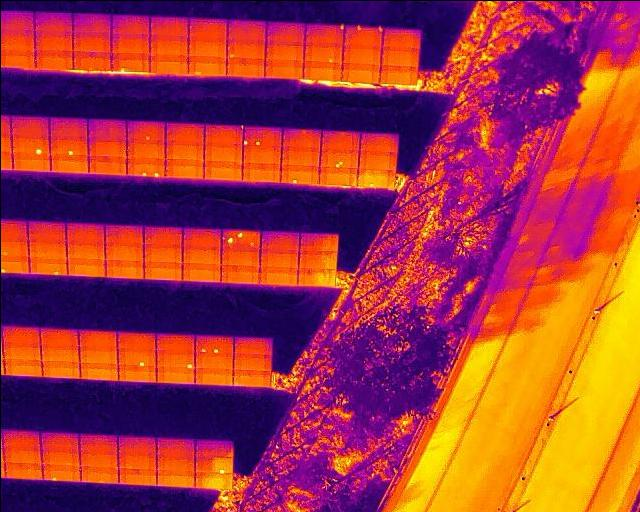Cell: (304, 24, 343, 45), (126, 120, 164, 141), (188, 55, 226, 75), (110, 51, 149, 70), (304, 43, 341, 62), (28, 256, 66, 274), (41, 464, 79, 482), (226, 41, 264, 58), (280, 165, 317, 182), (50, 137, 87, 154), (12, 137, 49, 154), (357, 168, 393, 185), (117, 350, 155, 366), (194, 456, 231, 472), (156, 352, 194, 367)
Cell-Multi: (220, 228, 260, 248), (344, 25, 383, 45), (243, 126, 281, 146), (195, 334, 233, 353), (127, 157, 164, 176), (320, 149, 357, 167)
No-Anomaly: (227, 19, 265, 41), (188, 17, 226, 39), (150, 15, 188, 37), (88, 118, 126, 140), (10, 116, 48, 138), (110, 32, 149, 53), (72, 30, 110, 51), (266, 21, 304, 42), (49, 117, 87, 138), (65, 222, 104, 242), (34, 29, 71, 50), (321, 129, 358, 150), (111, 14, 149, 34), (156, 437, 196, 456), (105, 223, 143, 243), (204, 160, 242, 180), (165, 158, 203, 178), (204, 124, 242, 144), (165, 122, 203, 142), (220, 264, 259, 283), (260, 230, 299, 249), (283, 128, 320, 148), (0, 10, 35, 31), (2, 341, 40, 360), (156, 334, 194, 353), (150, 35, 188, 54), (72, 12, 110, 31), (34, 11, 72, 30), (40, 432, 78, 451), (1, 430, 39, 449), (259, 265, 297, 284), (182, 262, 220, 281), (66, 257, 104, 276), (27, 221, 65, 240), (242, 162, 280, 181), (165, 141, 203, 160), (359, 132, 397, 151), (73, 50, 110, 69), (342, 44, 379, 63), (89, 155, 126, 174), (281, 146, 318, 165), (299, 233, 338, 251), (203, 143, 242, 161), (382, 45, 417, 65), (194, 366, 232, 384), (40, 344, 78, 362), (233, 337, 271, 355), (117, 332, 155, 350), (266, 58, 302, 77), (226, 58, 264, 76), (149, 54, 187, 72), (188, 38, 226, 56), (117, 435, 155, 453), (78, 329, 116, 347), (143, 262, 181, 280), (105, 260, 143, 278), (299, 250, 337, 268), (260, 249, 298, 267), (182, 245, 220, 263), (143, 244, 181, 262), (182, 227, 220, 245), (359, 150, 395, 169), (242, 145, 280, 163), (88, 138, 126, 156), (4, 358, 41, 376), (35, 49, 72, 67), (195, 440, 232, 458), (297, 267, 334, 285), (144, 226, 181, 244), (50, 154, 87, 172), (79, 363, 118, 380), (78, 346, 117, 363), (383, 28, 419, 46), (341, 62, 377, 80), (41, 360, 79, 377), (0, 30, 34, 49), (78, 434, 116, 451), (39, 328, 77, 345), (1, 325, 39, 342), (221, 248, 259, 265), (105, 243, 143, 260), (66, 241, 104, 258), (28, 240, 66, 257), (155, 456, 195, 472), (118, 365, 155, 382), (265, 43, 302, 60), (80, 450, 117, 467), (319, 167, 356, 184), (13, 154, 50, 171), (127, 141, 164, 158), (4, 462, 41, 479), (0, 48, 34, 66), (379, 65, 415, 82), (156, 367, 194, 383), (156, 471, 194, 487), (119, 469, 157, 485), (303, 62, 340, 78), (194, 472, 231, 488), (233, 354, 271, 369), (194, 353, 232, 368), (118, 454, 156, 469), (41, 451, 79, 466), (3, 448, 41, 463), (233, 370, 270, 385), (80, 466, 117, 480)
